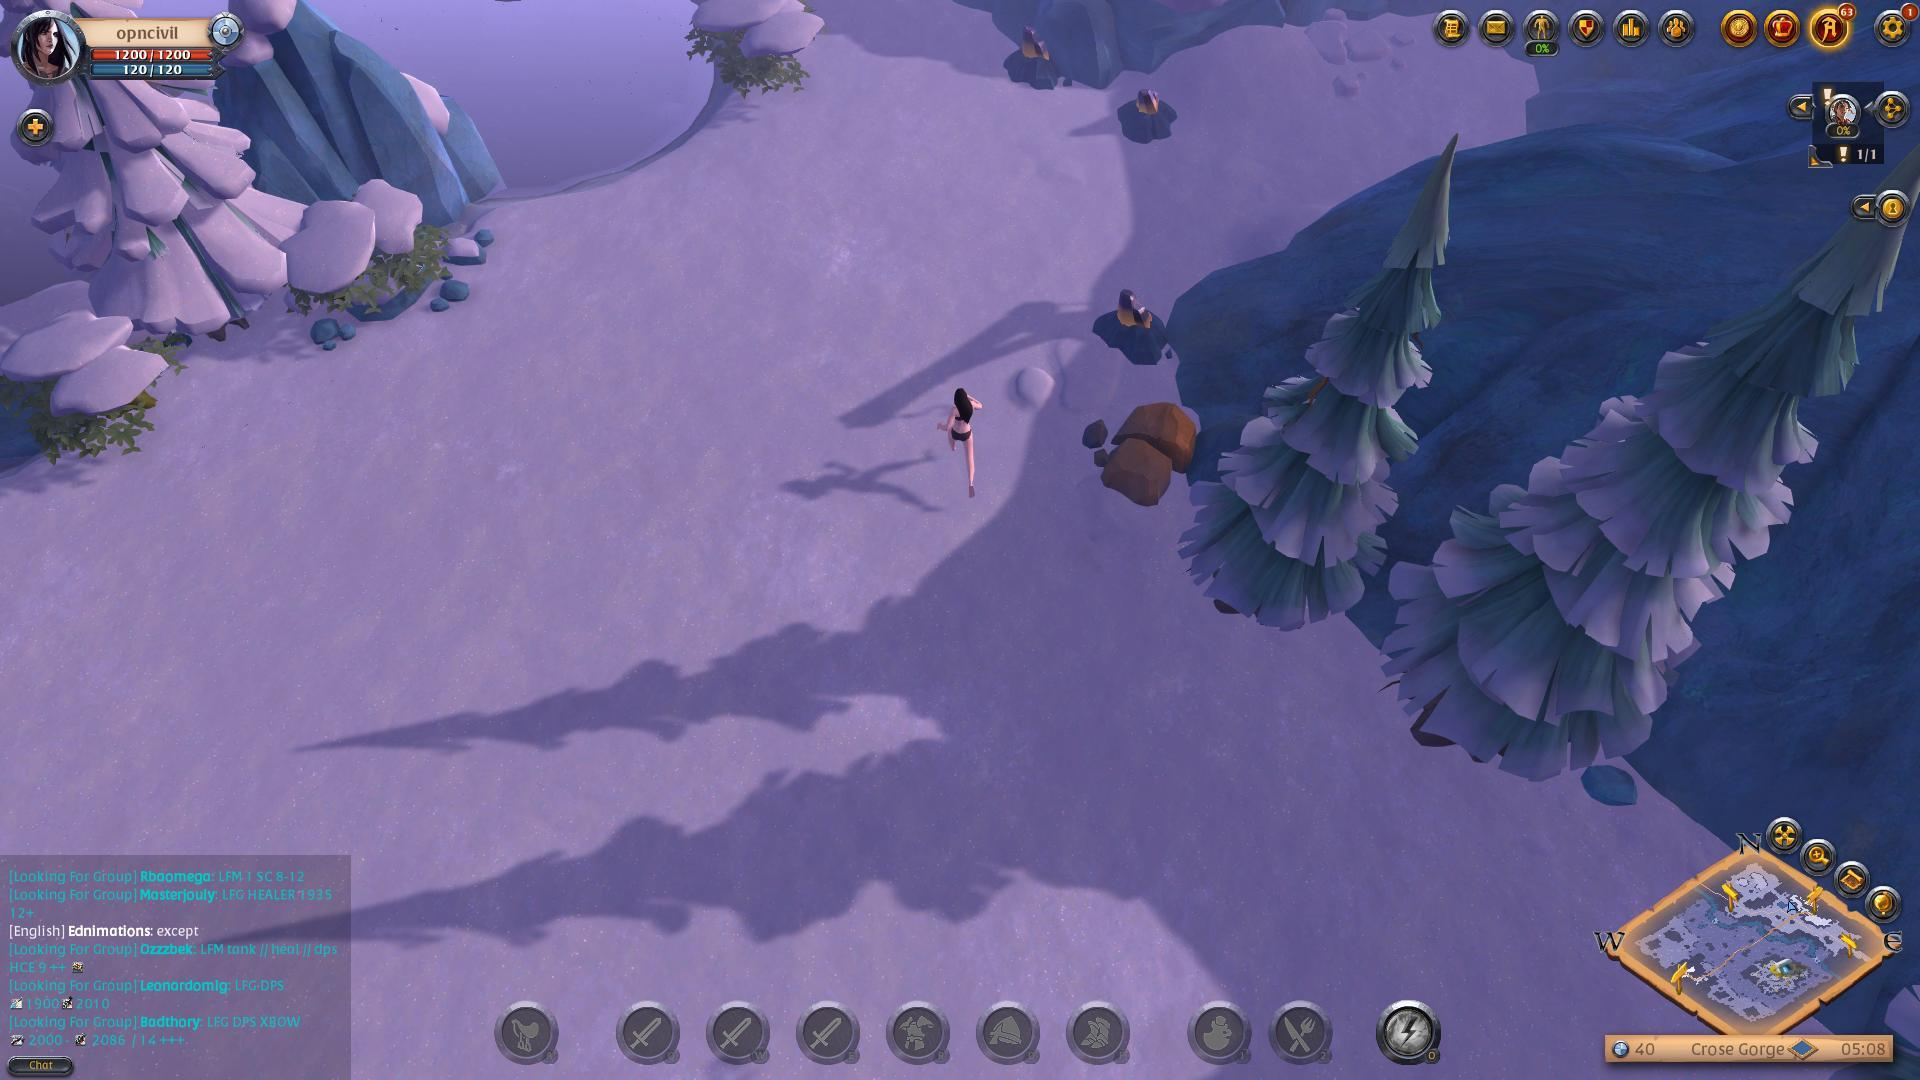copper_ore: (1085, 273, 1183, 371), (1109, 73, 1187, 153), (998, 22, 1075, 98)
limestone: (1081, 402, 1213, 512)
